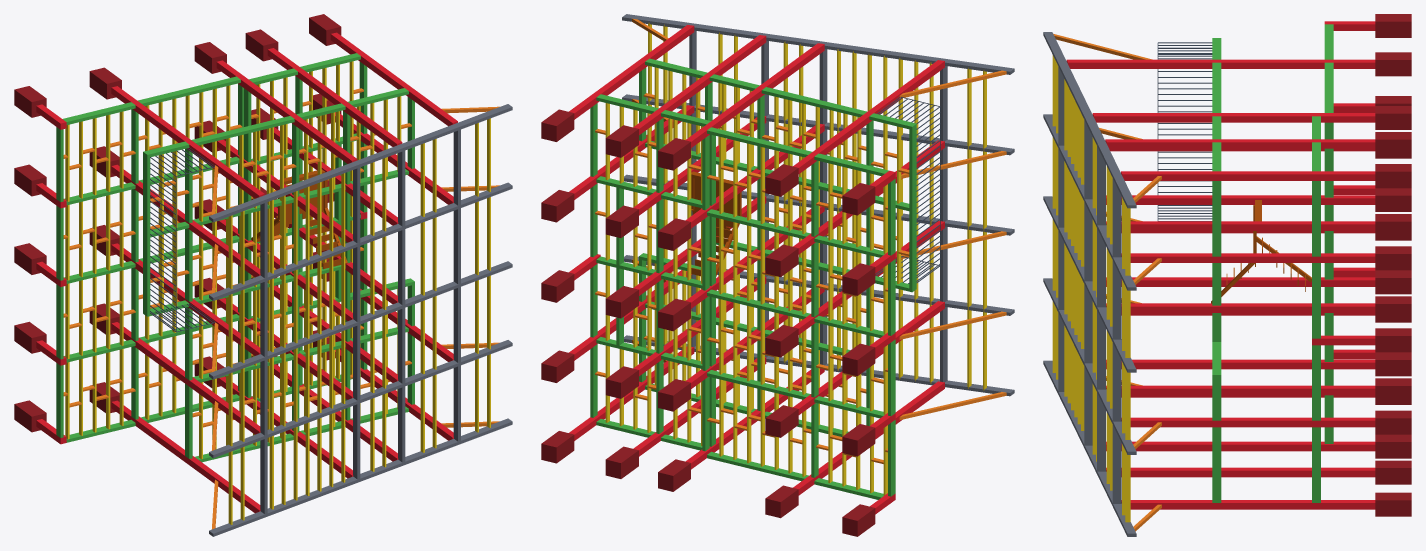
The model's file is tinker.obj.
3 renders of one model, left to right at view 1: azimuth 30°, elevation 25°; view 2: azimuth 150°, elevation 25°; view 3: azimuth 270°, elevation 25°, orthographic. The views are drawn at different scales.
Parts seen in each view (by area): view 1: obj_574, obj_1, obj_20, obj_2, obj_15, obj_3, obj_4, obj_6, obj_11, obj_7, obj_21, obj_9 (+46 smaller); view 2: obj_574, obj_1, obj_2, obj_3, obj_4, obj_20, obj_15, obj_7, obj_21, obj_12, obj_6, obj_16 (+63 smaller); view 3: obj_1, obj_574, obj_2, obj_18, obj_3, obj_17, obj_22, obj_4, obj_16, obj_21, obj_9, obj_23 (+60 smaller).
Boxes of the visible parts, <box> form: obj_574: <box>150,147,215,332</box>; obj_1: <box>111,86,264,198</box>; obj_20: <box>111,400,260,513</box>; obj_2: <box>216,60,357,163</box>; obj_15: <box>111,322,260,434</box>; obj_3: <box>267,48,402,146</box>; obj_4: <box>330,32,457,126</box>; obj_6: <box>111,164,260,277</box>; obj_11: <box>111,243,260,355</box>; obj_7: <box>217,139,353,242</box>; obj_21: <box>217,376,353,478</box>; obj_9: <box>330,112,453,204</box>; obj_574: <box>875,97,940,283</box>; obj_1: <box>793,60,944,173</box>; obj_2: <box>685,43,824,147</box>; obj_3: <box>633,35,766,135</box>; obj_4: <box>569,25,694,119</box>; obj_20: <box>793,381,944,495</box>; obj_15: <box>793,301,944,414</box>; obj_7: <box>685,124,824,228</box>; obj_21: <box>685,368,824,469</box>; obj_12: <box>685,206,824,308</box>; obj_6: <box>793,140,944,254</box>; obj_16: <box>685,288,824,388</box>; obj_1: <box>1066,59,1375,68</box>; obj_574: <box>1157,42,1212,221</box>; obj_2: <box>1092,113,1375,122</box>; obj_18: <box>1121,417,1375,427</box>; obj_3: <box>1105,139,1375,148</box>; obj_17: <box>1106,385,1375,395</box>; obj_22: <box>1106,467,1375,477</box>; obj_4: <box>1121,171,1375,180</box>; obj_16: <box>1106,359,1375,369</box>; obj_21: <box>1106,441,1375,451</box>; obj_9: <box>1121,253,1375,262</box>; obj_23: <box>1121,500,1375,509</box>.
Bounding box in the file's own units: 120 × 105 × 102.
